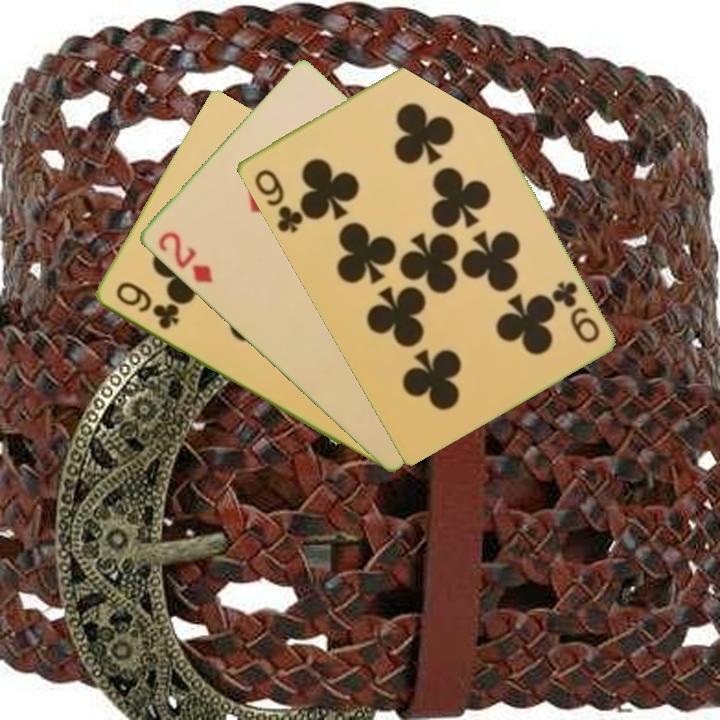2d: (154, 228, 216, 286)
9c: (250, 165, 306, 236), (111, 278, 181, 333), (547, 277, 602, 346)
